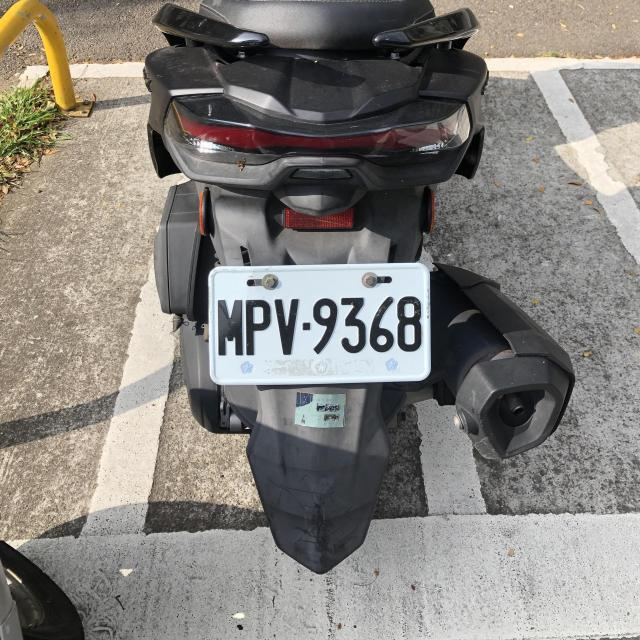W: (206, 262, 430, 386)
